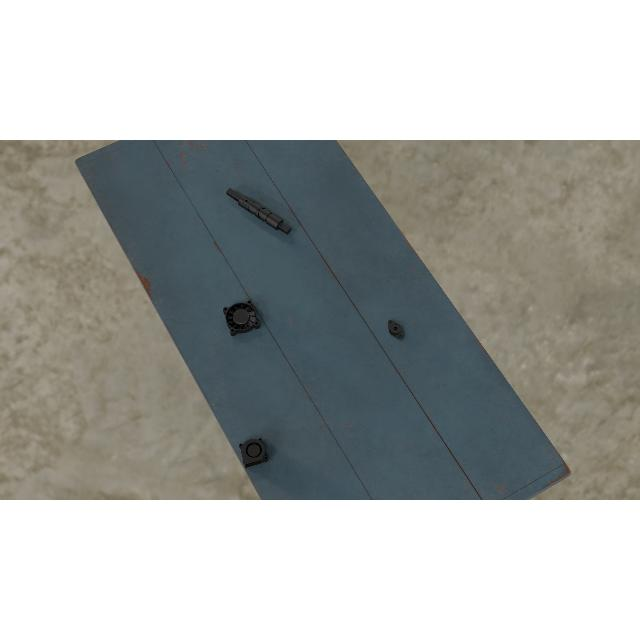Pieza1: (224, 184, 292, 238)
Pieza2: (384, 316, 408, 342)
Pieza3: (238, 436, 268, 468)
Pieza4: (222, 299, 260, 337)
